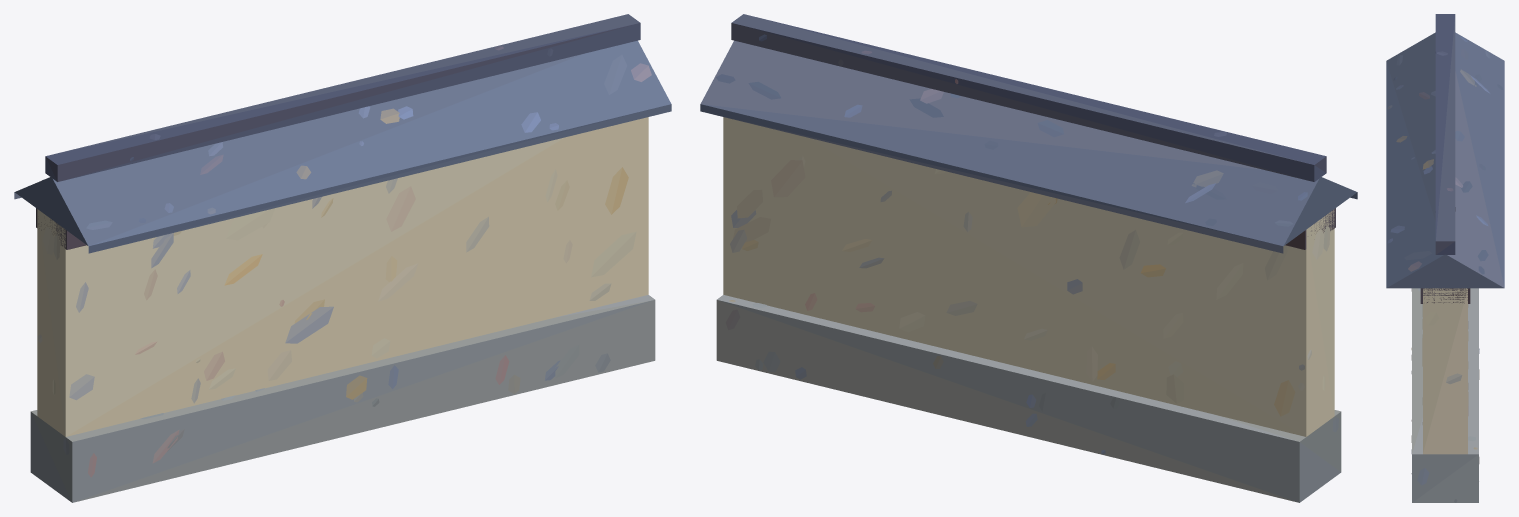
Rendered from HK_Dobei_5m.glb.
The picture shows the model from 3 angles, left to right: view 1: azimuth 30°, elevation 25°; view 2: azimuth 150°, elevation 25°; view 3: azimuth 270°, elevation 25°; orthographic projection. The views are drawn at different scales.
Parts seen in each view (by area): view 1: HK_Dobei_5m; view 2: HK_Dobei_5m; view 3: HK_Dobei_5m.
Part boxes in pixels (x1,y1,x2,y2): HK_Dobei_5m: [14, 14, 671, 502]; HK_Dobei_5m: [700, 14, 1357, 502]; HK_Dobei_5m: [1386, 14, 1504, 502].
Size of the model in its own units: 5.01 by 2.69 by 1.1.
